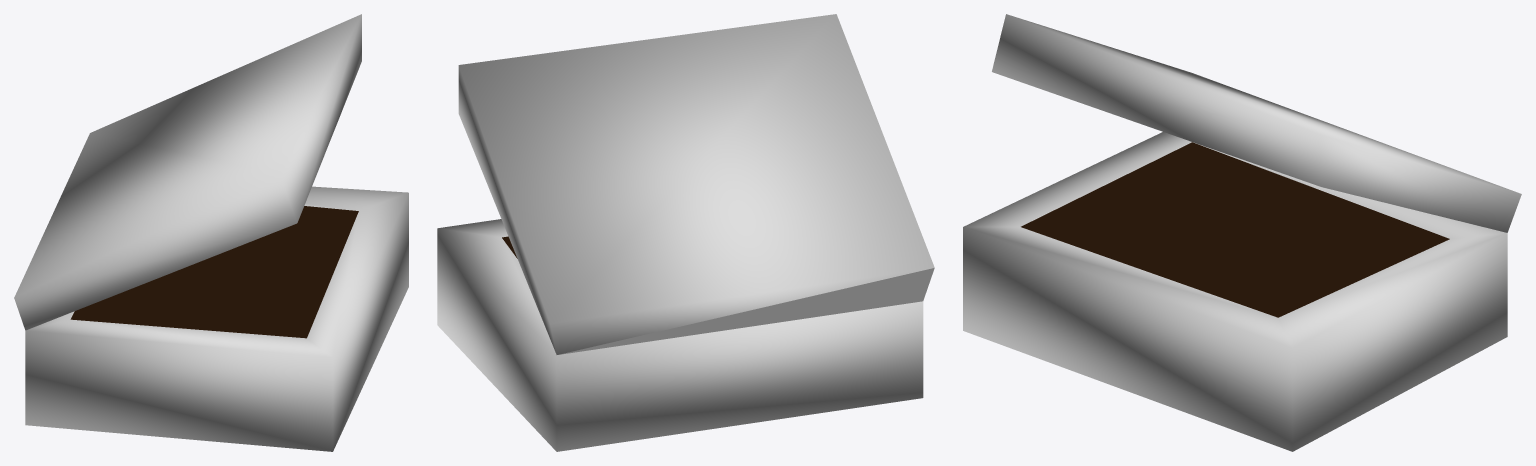
Rendered from SM_Tinderbox.fbx.
The picture shows the model from 3 angles, left to right: view 1: azimuth 30°, elevation 25°; view 2: azimuth 150°, elevation 25°; view 3: azimuth 270°, elevation 25°; orthographic projection. The views are drawn at different scales.
Parts seen in each view (by area): view 1: 2348; view 2: 2348; view 3: 2348.
Part boxes in pixels (x1=…): 2348: x1=14, y1=14, x2=408, y2=451; 2348: x1=437, y1=14, x2=934, y2=451; 2348: x1=963, y1=14, x2=1521, y2=451.
Bounding box in the file's own units: 39 × 23 × 39.
